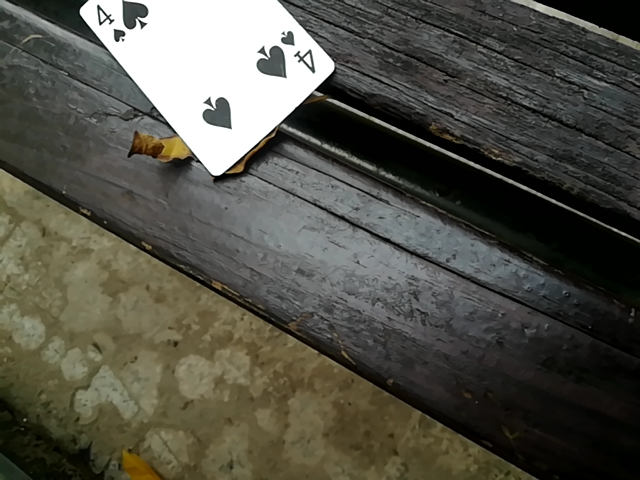ht 4: (45, 0, 327, 178)
